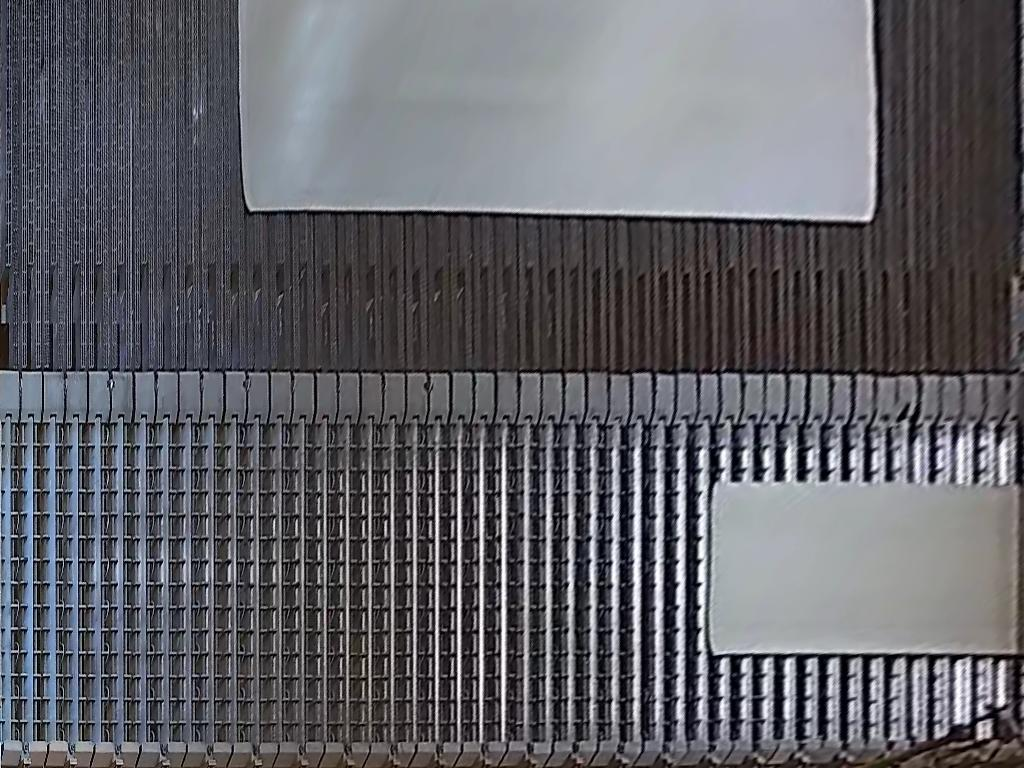steel: (235, 1, 877, 223), (704, 480, 1024, 658)
